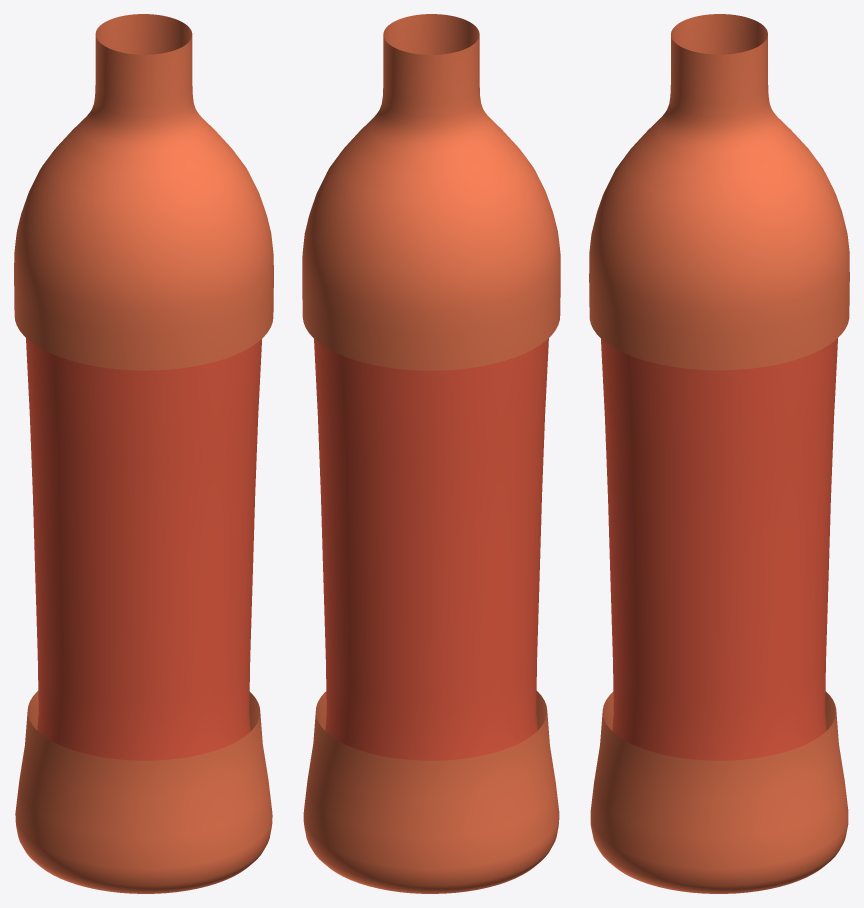
Rendered from wine.glb.
The picture shows the model from 3 angles, left to right: view 1: azimuth 30°, elevation 25°; view 2: azimuth 150°, elevation 25°; view 3: azimuth 270°, elevation 25°; orthographic projection.
Parts seen in each view (by area): view 1: Wine_Rose_By_Ott_Domaines_Ott, Wine_Rose_By_Ott_Domaines_Ott.001; view 2: Wine_Rose_By_Ott_Domaines_Ott, Wine_Rose_By_Ott_Domaines_Ott.001; view 3: Wine_Rose_By_Ott_Domaines_Ott, Wine_Rose_By_Ott_Domaines_Ott.001.
Boxes of the visible parts, <box> form: Wine_Rose_By_Ott_Domaines_Ott: <box>14,14,273,893</box>; Wine_Rose_By_Ott_Domaines_Ott.001: <box>26,338,261,756</box>; Wine_Rose_By_Ott_Domaines_Ott: <box>302,14,560,893</box>; Wine_Rose_By_Ott_Domaines_Ott.001: <box>314,338,548,756</box>; Wine_Rose_By_Ott_Domaines_Ott: <box>589,14,849,893</box>; Wine_Rose_By_Ott_Domaines_Ott.001: <box>601,338,837,756</box>.
Size of the model in its own units: 0.7111 by 2.47 by 0.7169.
3 materials, 3 textured.
